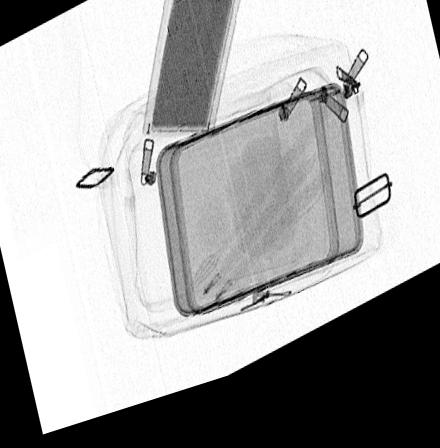Powerbank: (142, 0, 244, 150)
